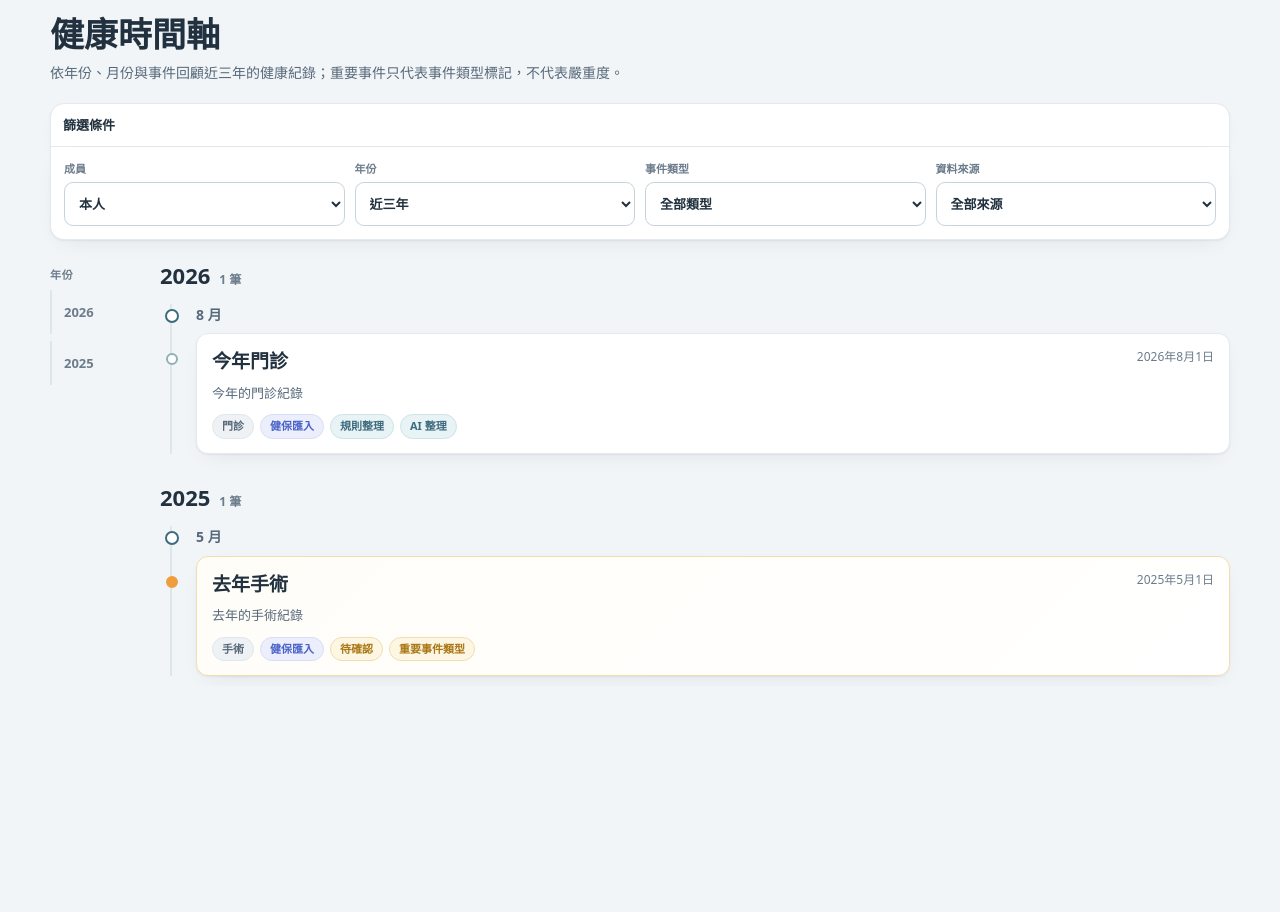
Test: HealthTimelinePage member and mobile year behavior › keeps the last successful cards when a filter refresh fails
Expected: the heading "今年門診" is shown, [212,348,288,376]
Expected: the heading "去年手術" is shown, [212,571,288,598]
Select "醫療團隊" in the dropdown labelled "資料來源" at [1076, 204], box [936,182,1216,226]
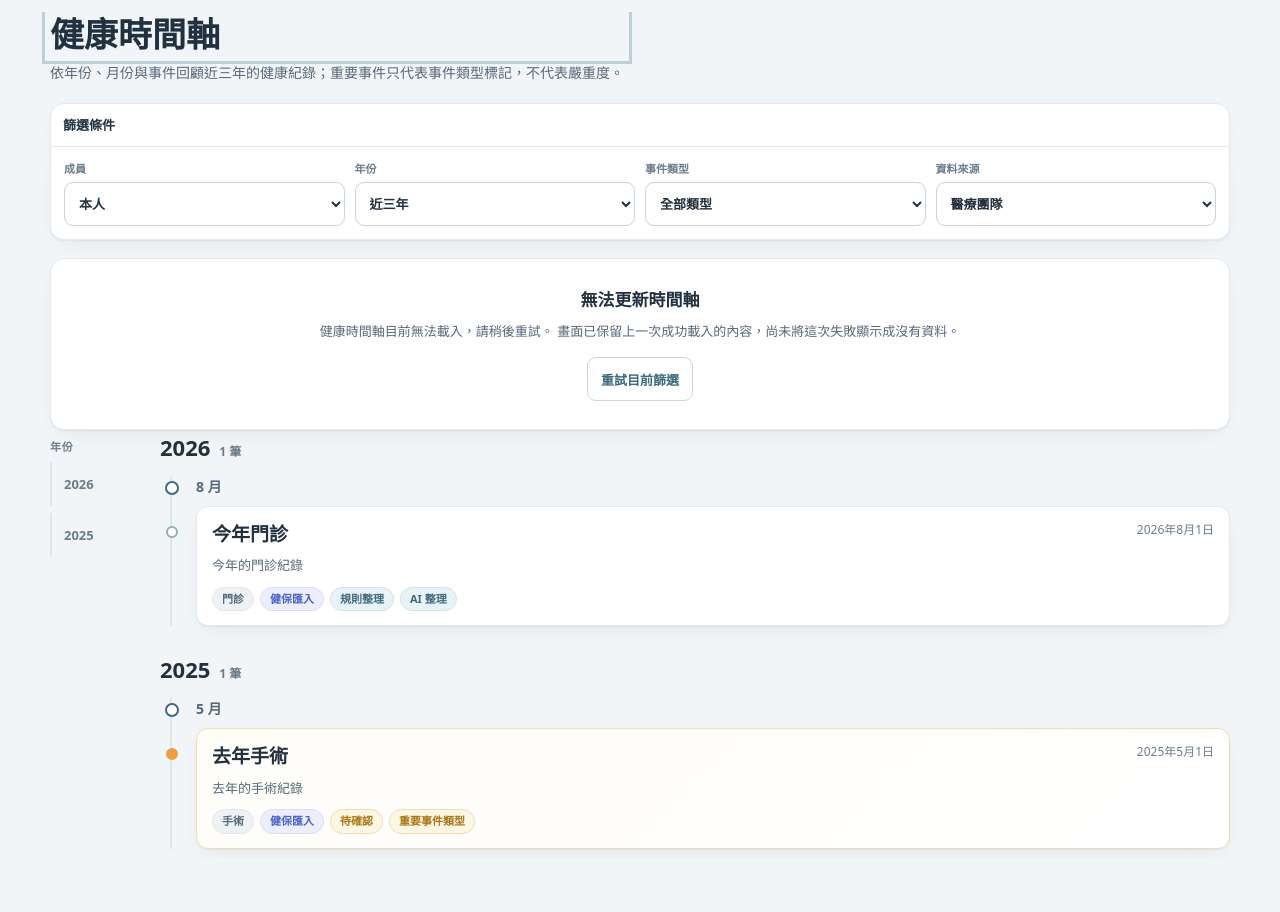
Expected: the heading "今年門診" is shown, [212,521,288,548]
Expected: the message shows "無法更新時間軸", [580,288,700,311]
Expected: the message shows "保留上一次成功載入的內容", [554,322,960,340]
